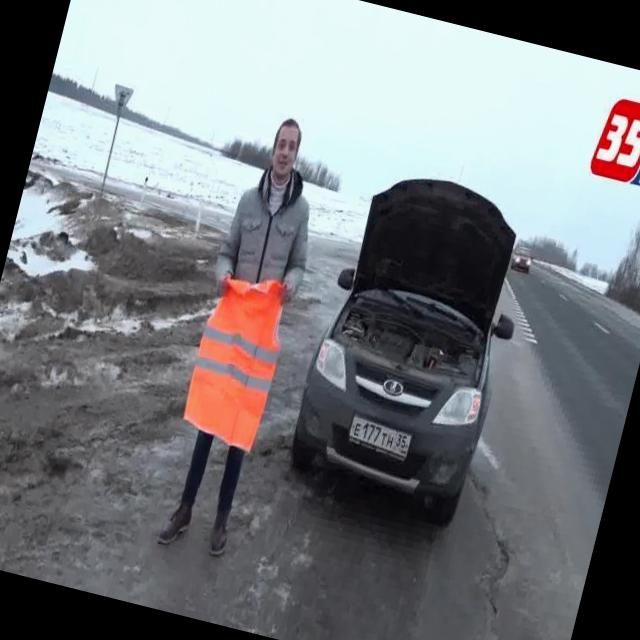vest: (175, 261, 298, 460)
